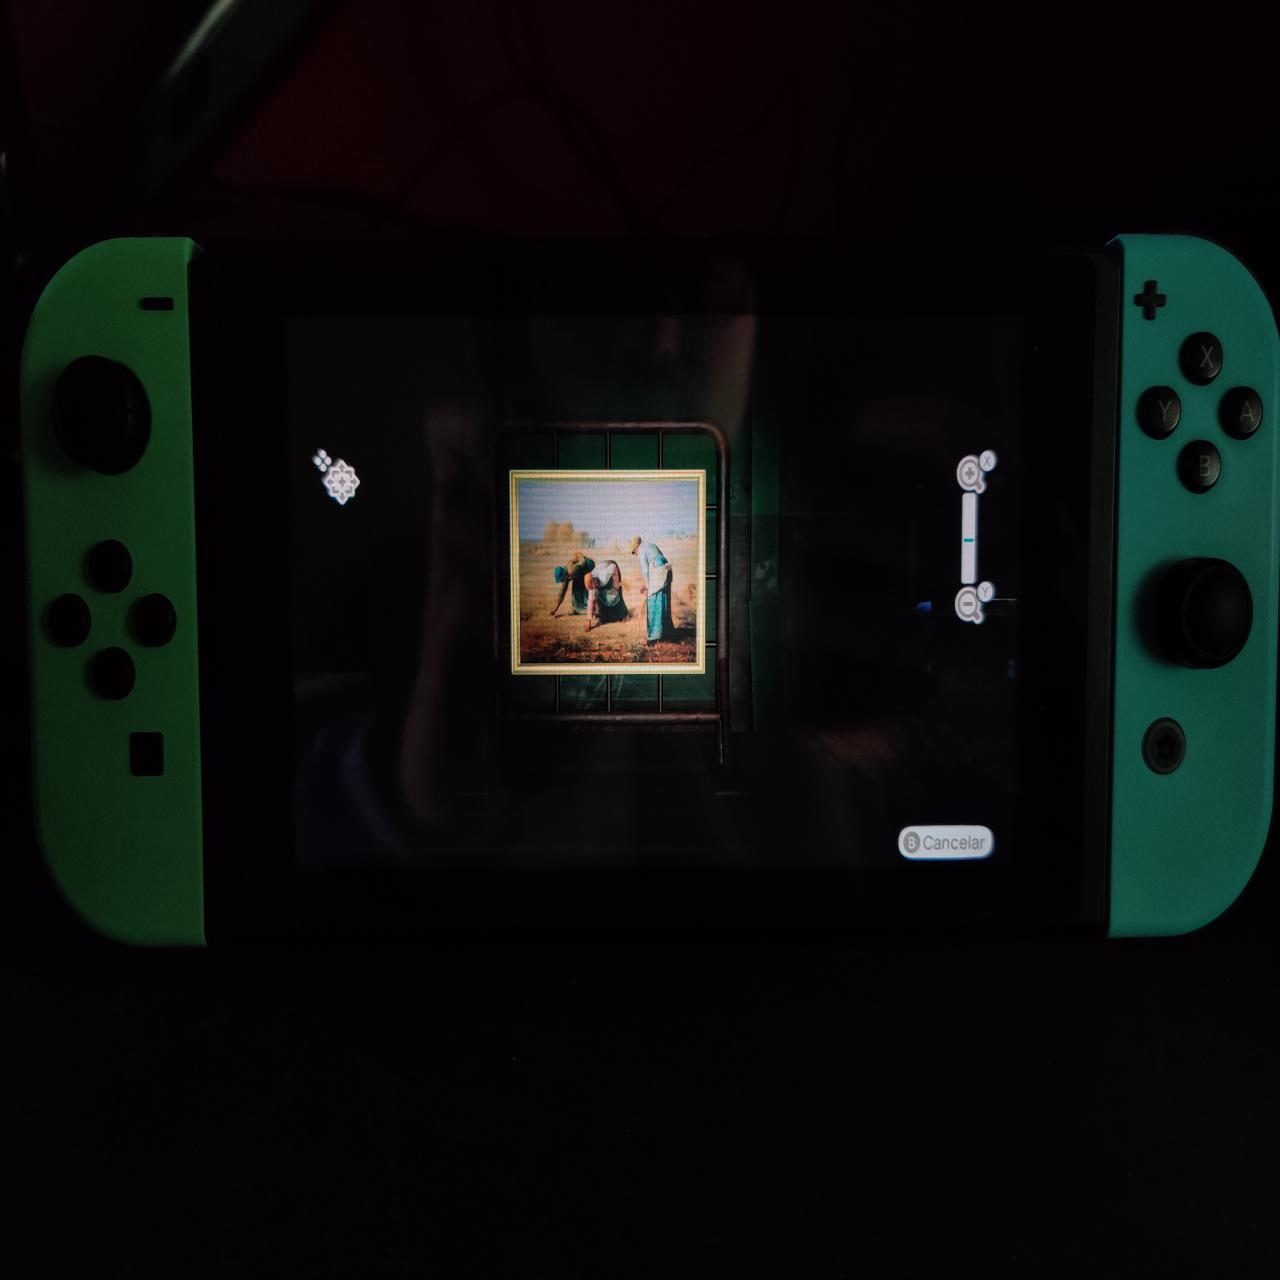Gleaners: (520, 478, 695, 663)
